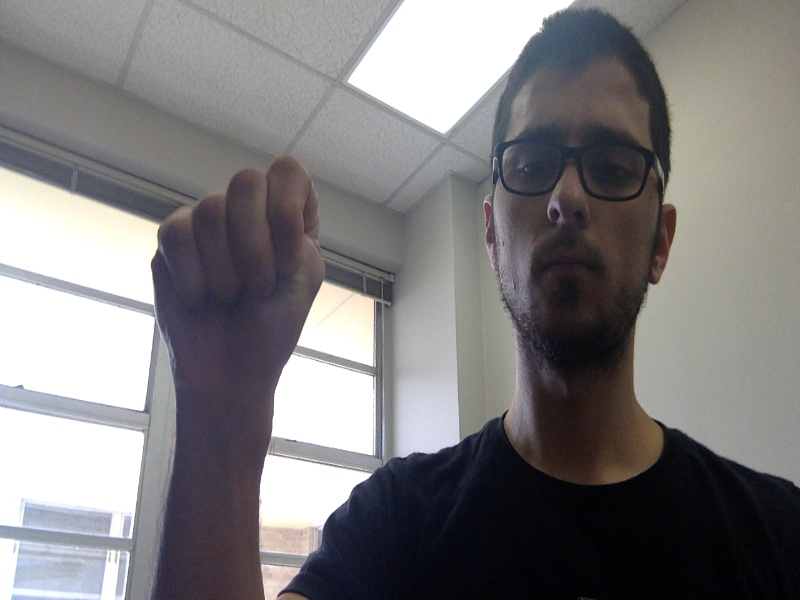0-hand: (150, 157, 323, 380)
